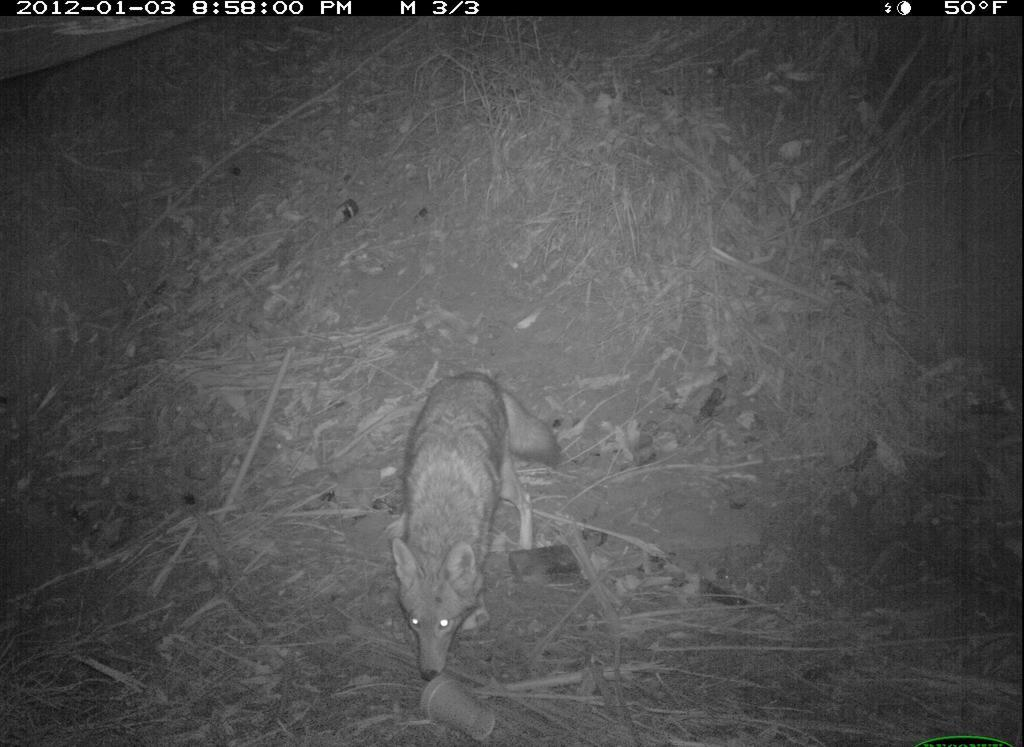coyote: (377, 367, 569, 683)
